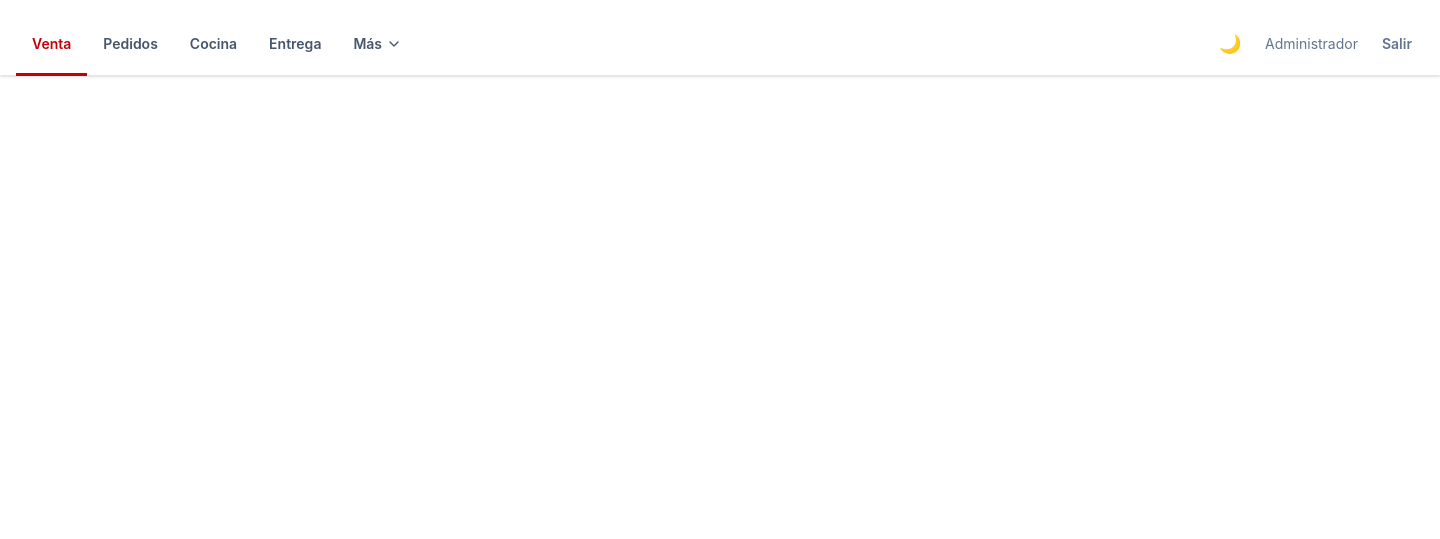
shows every link to admins
Click the button "Más": (378, 44) [337,12,418,76]
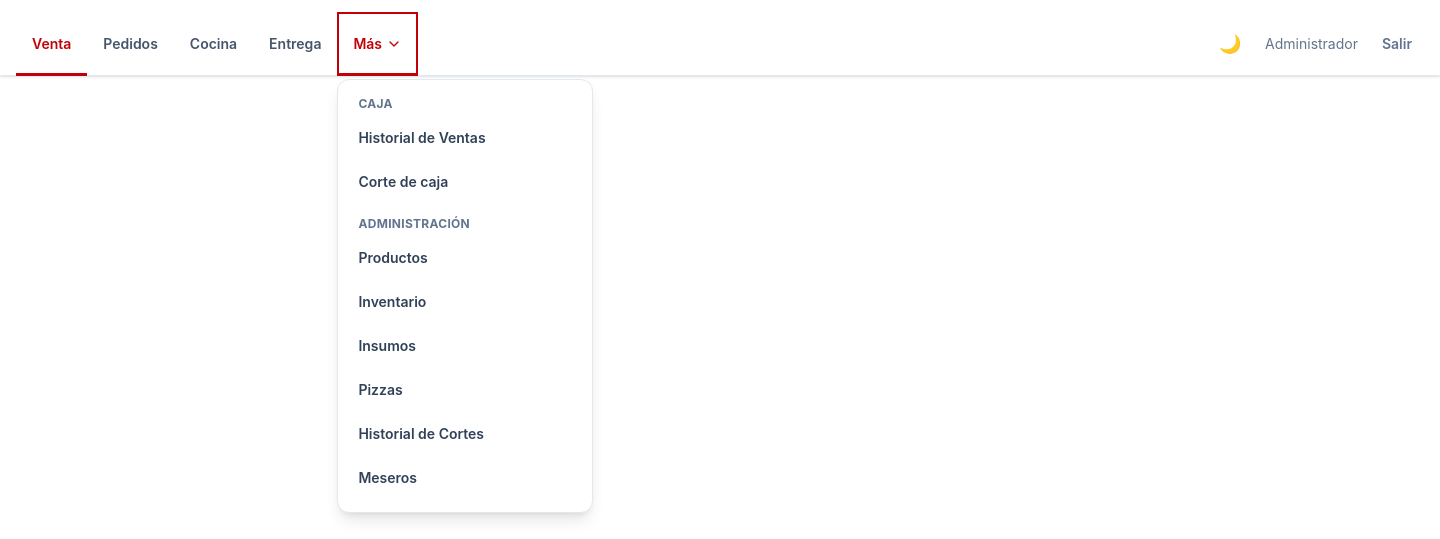
Expected: the link "Historial de Ventas" is shown, [358,129,486,146]
Expected: the link "Corte de caja" is shown, [358,173,448,190]
Expected: the link "Productos" is shown, [358,249,428,266]
